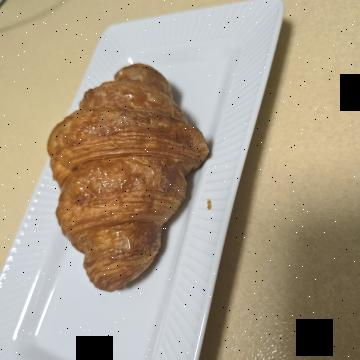croissant: (56, 148, 300, 322)
